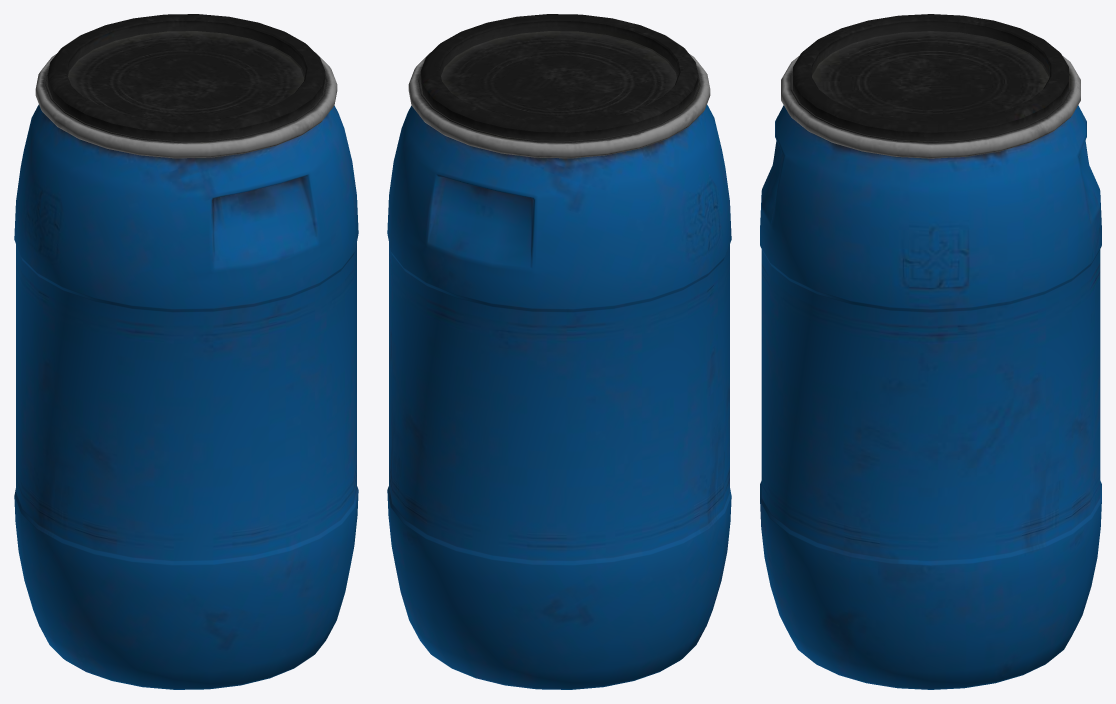
Rendered from Barrel_02.glb.
The picture shows the model from 3 angles, left to right: view 1: azimuth 30°, elevation 25°; view 2: azimuth 150°, elevation 25°; view 3: azimuth 270°, elevation 25°; orthographic projection.
Visible parts, largest first — view 1: Barrel_02; view 2: Barrel_02; view 3: Barrel_02.
Boxes of the visible parts, box(x1,y1,x2,y2) form: Barrel_02: box(14, 14, 358, 689); Barrel_02: box(387, 14, 731, 689); Barrel_02: box(760, 14, 1101, 689).
Bounding box in the file's own units: 0.4882 × 0.88 × 0.4846.
Materials: 1 (1 with a texture image).
